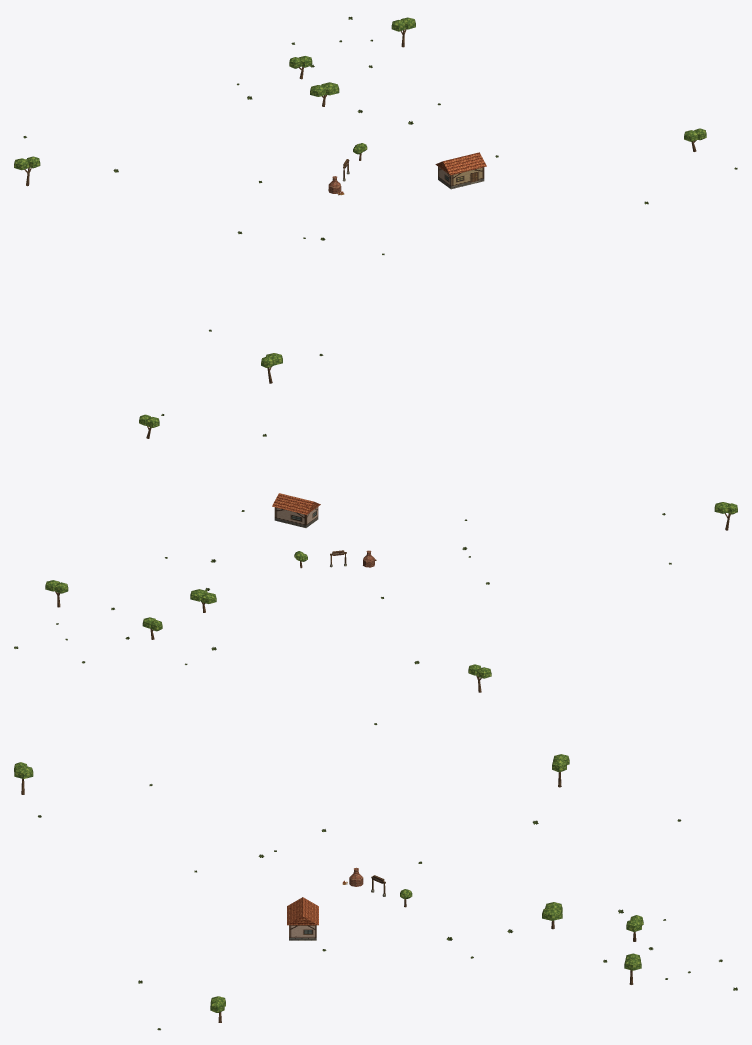
Rendered from FieldCell_4_3.fbx.
3 renders of one model, top to bottom at view 1: azimuth 30°, elevation 25°; view 2: azimuth 150°, elevation 25°; view 3: azimuth 270°, elevation 25°, orthographic. The views are drawn at different scales.
Visible parts, largest first — view 1: FieldCell_4_3; view 2: FieldCell_4_3; view 3: FieldCell_4_3.
Boxes of the visible parts, x1,y1,x2,y2 form: FieldCell_4_3: (14, 17, 706, 383); FieldCell_4_3: (45, 414, 737, 692); FieldCell_4_3: (14, 754, 643, 1022).
Bounding box in the file's own units: 14978 × 1603 × 16249.
